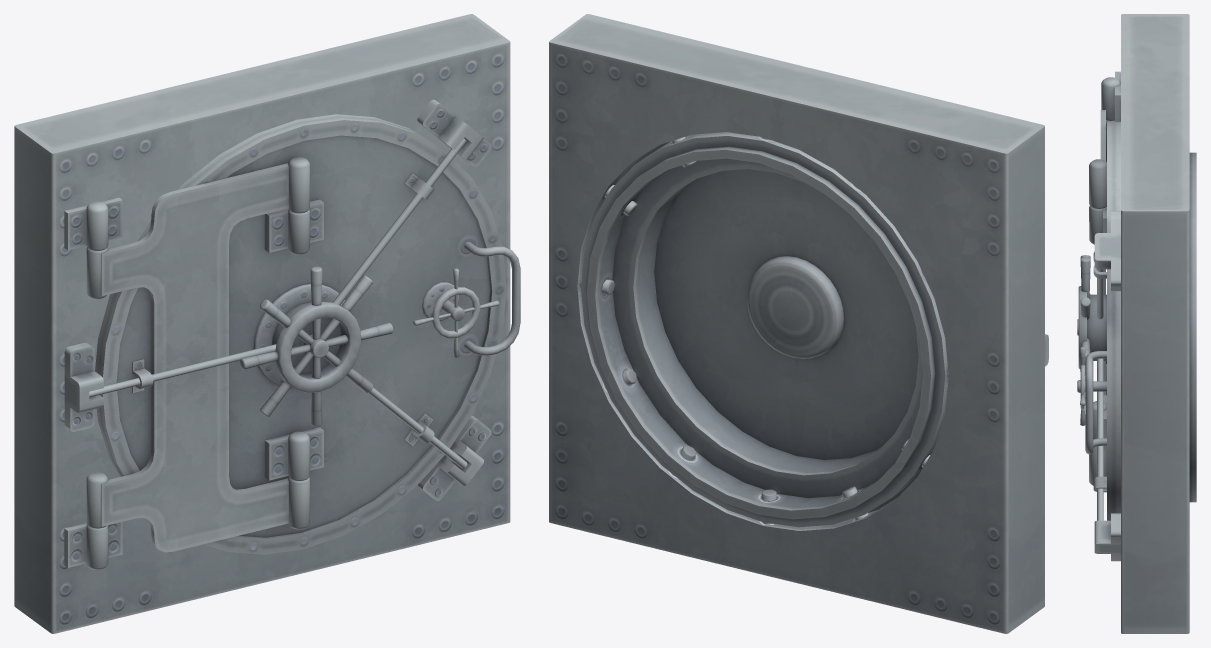
File: BankVaultDoor01_1.FBX
The picture shows the model from 3 angles, left to right: view 1: azimuth 30°, elevation 25°; view 2: azimuth 150°, elevation 25°; view 3: azimuth 270°, elevation 25°; orthographic projection. The views are drawn at different scales.
Parts seen in each view (by area): view 1: BankVaultDoor01_1; view 2: BankVaultDoor01_1; view 3: BankVaultDoor01_1.
Boxes of the visible parts, x1,y1,x2,y2 form: BankVaultDoor01_1: [14, 14, 520, 633]; BankVaultDoor01_1: [549, 14, 1048, 633]; BankVaultDoor01_1: [1077, 14, 1196, 633].
Size of what is drawn, in the model's own units: 3.4 by 3.4 by 0.872.
